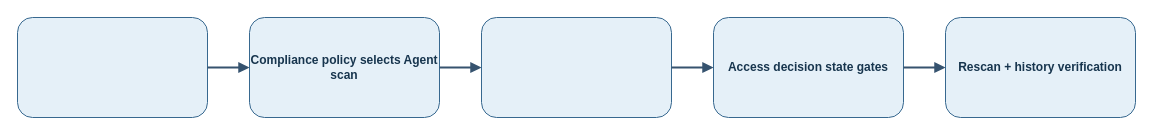
This 1153x135 diagram has some shape labels left out. The shapes that lost their labels are listed below. From the top down, each one's centre as x and y in pixels, then its label:
pixel 112 67: Endpoint
pixel 576 67: Host Health Agent/Admin/System
